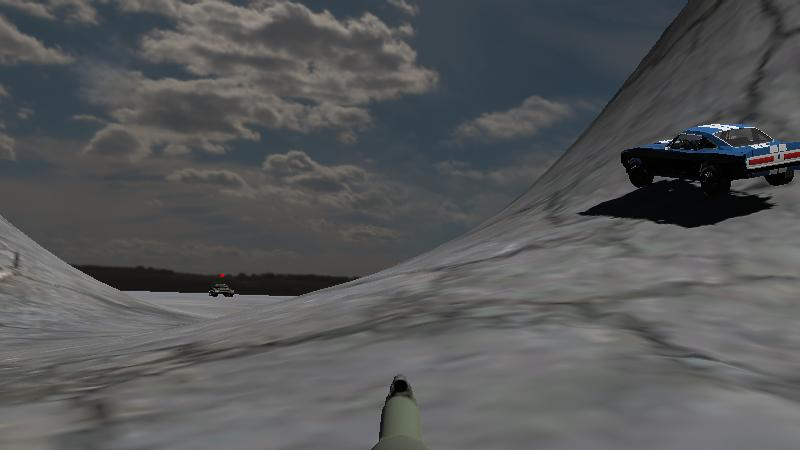Tank: (206, 280, 239, 299)
car: (616, 118, 800, 203)
